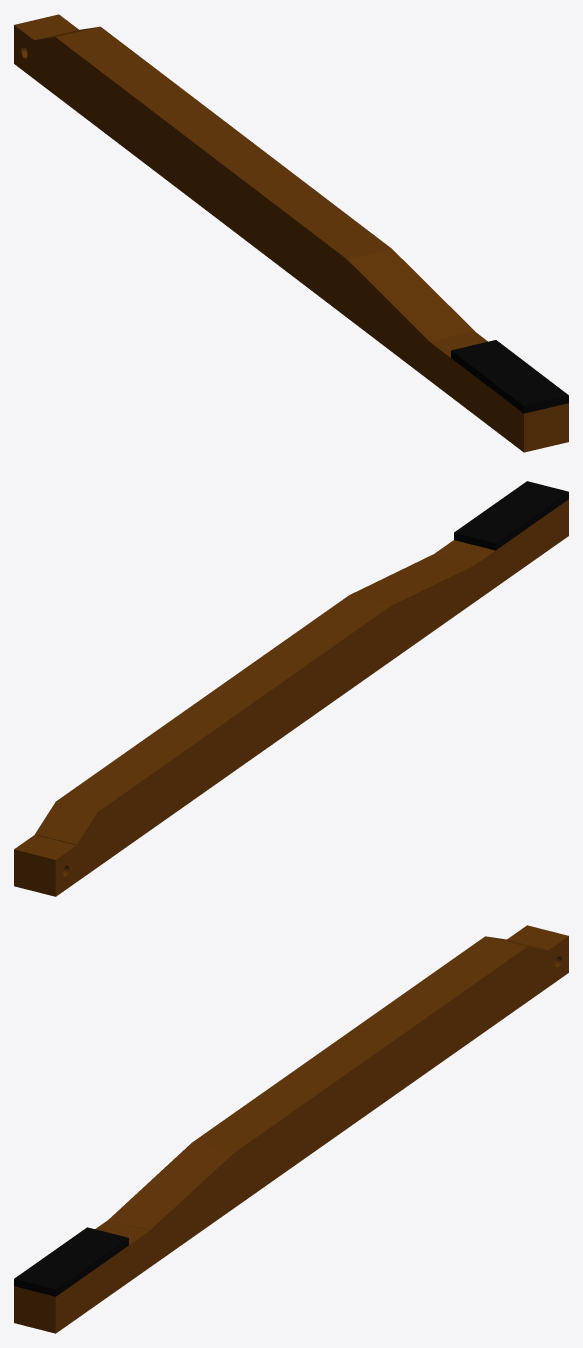
File: Single_Pedal_Lower.fbx
The picture shows the model from 3 angles, top to bottom: view 1: azimuth 30°, elevation 25°; view 2: azimuth 150°, elevation 25°; view 3: azimuth 330°, elevation 25°; orthographic projection. The views are drawn at different scales.
Visible parts, largest first — view 1: pCube31; view 2: pCube31; view 3: pCube31.
Part boxes in pixels (bbox=[...]): pCube31: bbox=[14, 14, 568, 452]; pCube31: bbox=[14, 481, 568, 896]; pCube31: bbox=[14, 925, 568, 1333].
Size of the model in its own units: 1.63 by 1.5 by 24.52.
